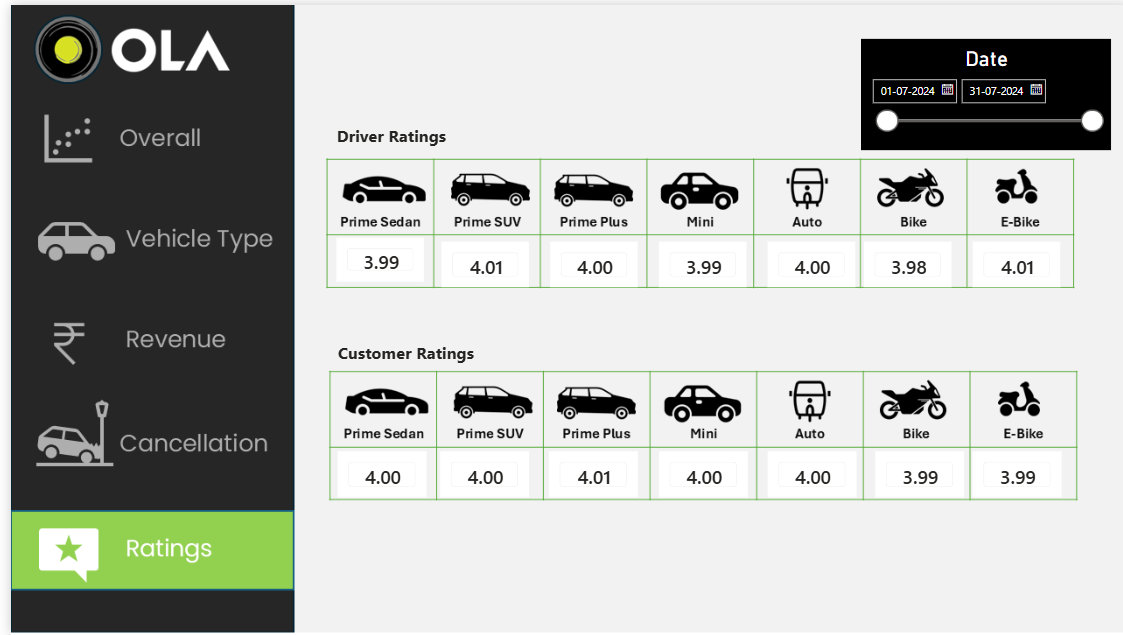

The page's visual inventory and layout, read from the dashboard file:
{"tool":"powerbi","page":{"name":"Ratings","canvas":[1280,720],"ordinal":4},"visuals":[{"type":"actionButton","box":[0,222,323.3,86.9],"z":0},{"type":"actionButton","box":[0,340,322.4,87.1],"z":1000},{"type":"actionButton","box":[1.2,445.9,322.4,96.5],"z":2000},{"type":"actionButton","box":[1.2,112.5,322.5,87.5],"z":3000},{"type":"cardVisual","fields":{"Data":["Avg(July.Driver_Ratings)"]},"box":[367.1,265.7,110,62.9],"z":4000},{"type":"cardVisual","fields":{"Data":["Avg(July.Driver_Ratings)"]},"box":[1094.3,265.7,110,62.9],"z":5000},{"type":"cardVisual","fields":{"Data":["Avg(July.Driver_Ratings)"]},"box":[735.7,265.7,110,62.9],"z":6000},{"type":"cardVisual","fields":{"Data":["Avg(July.Driver_Ratings)"]},"box":[611.4,265.7,110,62.9],"z":7000},{"type":"cardVisual","fields":{"Data":["Avg(July.Driver_Ratings)"]},"box":[487.1,265.7,110,62.9],"z":8000},{"type":"cardVisual","fields":{"Data":["Avg(July.Driver_Ratings)"]},"box":[860,265.7,110,62.9],"z":9000},{"type":"cardVisual","fields":{"Data":["Avg(July.Driver_Ratings)"]},"box":[970,265.7,110,62.9],"z":10000},{"type":"textbox","box":[367.1,131.4,150,47.1],"z":11000},{"type":"textbox","box":[368.6,380,174.3,47.1],"z":12000},{"type":"cardVisual","fields":{"Data":["Avg(July.Customer_Rating)"]},"box":[368.6,510,111.4,65.7],"z":13000},{"type":"cardVisual","fields":{"Data":["Avg(July.Customer_Rating)"]},"box":[610,510,111.4,65.7],"z":14000},{"type":"cardVisual","fields":{"Data":["Avg(July.Customer_Rating)"]},"box":[485.7,510,111.4,65.7],"z":15000},{"type":"cardVisual","fields":{"Data":["Avg(July.Customer_Rating)"]},"box":[860,510,111.4,65.7],"z":16000},{"type":"cardVisual","fields":{"Data":["Avg(July.Customer_Rating)"]},"box":[735.7,510,111.4,65.7],"z":17000},{"type":"cardVisual","fields":{"Data":["Avg(July.Customer_Rating)"]},"box":[1094.3,510,111.4,65.7],"z":18000},{"type":"cardVisual","fields":{"Data":["Avg(July.Customer_Rating)"]},"box":[982.9,510,111.4,65.7],"z":19000},{"type":"slicer","title":"Date","fields":{"Values":["July.Date"]},"box":[971.4,38.6,285.7,127.1],"z":20000}]}

Visuals, with their boxes on the page's 1280x720 design canvas (x1, y1, x2, y2). These are canvas units, not pixel positions in the 1123x635 screenshot, which may show the page scaled, cropped or inside an application window:
actionButton: x1=0, y1=222, x2=323, y2=309
actionButton: x1=0, y1=340, x2=322, y2=427
actionButton: x1=1, y1=446, x2=324, y2=542
actionButton: x1=1, y1=112, x2=324, y2=200
cardVisual - Avg(July.Driver_Ratings): x1=367, y1=266, x2=477, y2=329
cardVisual - Avg(July.Driver_Ratings): x1=1094, y1=266, x2=1204, y2=329
cardVisual - Avg(July.Driver_Ratings): x1=736, y1=266, x2=846, y2=329
cardVisual - Avg(July.Driver_Ratings): x1=611, y1=266, x2=721, y2=329
cardVisual - Avg(July.Driver_Ratings): x1=487, y1=266, x2=597, y2=329
cardVisual - Avg(July.Driver_Ratings): x1=860, y1=266, x2=970, y2=329
cardVisual - Avg(July.Driver_Ratings): x1=970, y1=266, x2=1080, y2=329
textbox: x1=367, y1=131, x2=517, y2=178
textbox: x1=369, y1=380, x2=543, y2=427
cardVisual - Avg(July.Customer_Rating): x1=369, y1=510, x2=480, y2=576
cardVisual - Avg(July.Customer_Rating): x1=610, y1=510, x2=721, y2=576
cardVisual - Avg(July.Customer_Rating): x1=486, y1=510, x2=597, y2=576
cardVisual - Avg(July.Customer_Rating): x1=860, y1=510, x2=971, y2=576
cardVisual - Avg(July.Customer_Rating): x1=736, y1=510, x2=847, y2=576
cardVisual - Avg(July.Customer_Rating): x1=1094, y1=510, x2=1206, y2=576
cardVisual - Avg(July.Customer_Rating): x1=983, y1=510, x2=1094, y2=576
"Date" slicer: x1=971, y1=39, x2=1257, y2=166
